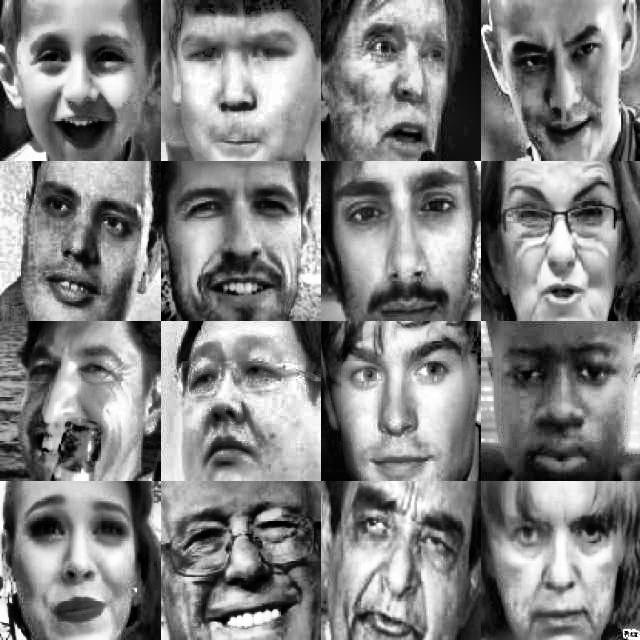angry: (330, 163, 470, 319), (170, 9, 307, 157), (343, 478, 467, 640), (495, 164, 621, 315), (495, 332, 626, 476), (496, 487, 619, 640), (502, 10, 614, 156)
happy: (166, 494, 312, 640), (165, 175, 302, 313), (19, 9, 139, 153), (16, 329, 134, 473)
neutral: (326, 326, 469, 477), (28, 165, 144, 317)
sad: (171, 324, 295, 473), (19, 481, 134, 640), (361, 8, 453, 156)
